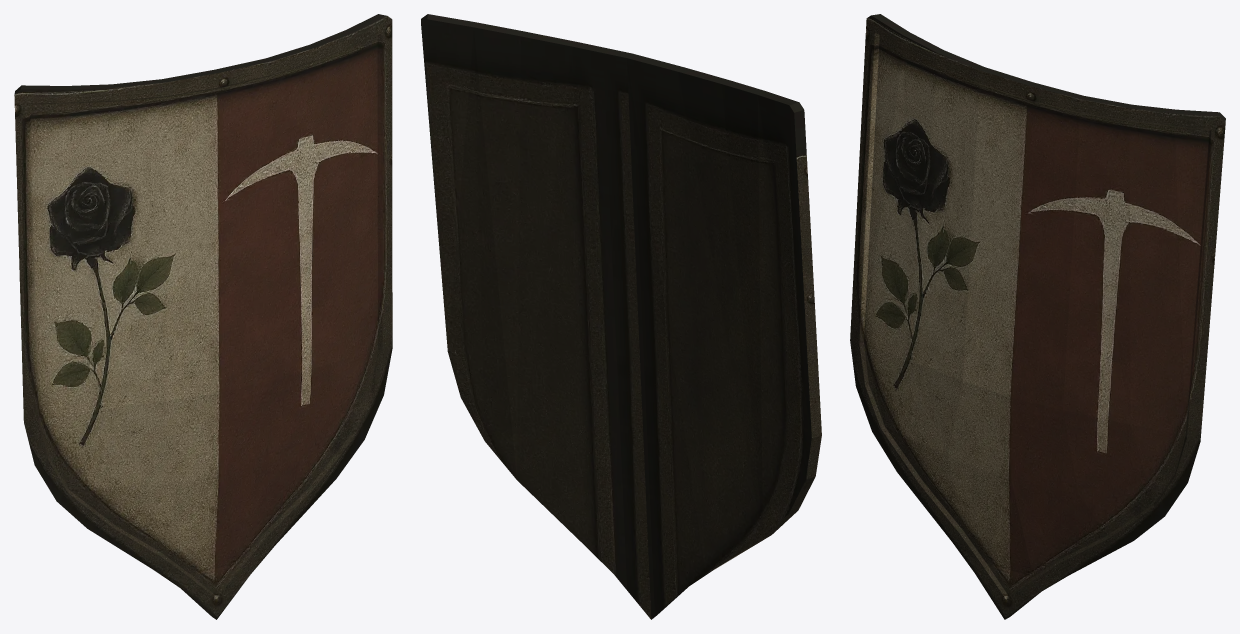
File: DI_ROSAVERO_SHIELD_IRON.glb
3 renders of one model, left to right at view 1: azimuth 30°, elevation 25°; view 2: azimuth 150°, elevation 25°; view 3: azimuth 330°, elevation 25°, orthographic. The views are drawn at different scales.
Visible parts, largest first — view 1: DI_ROSAVERO_SHIELD_IRON; view 2: DI_ROSAVERO_SHIELD_IRON; view 3: DI_ROSAVERO_SHIELD_IRON.
Part boxes in pixels (x1,y1,x2,y2): DI_ROSAVERO_SHIELD_IRON: [14, 14, 392, 619]; DI_ROSAVERO_SHIELD_IRON: [421, 14, 821, 619]; DI_ROSAVERO_SHIELD_IRON: [850, 14, 1225, 619].
Size of the model in its own units: 0.6706 by 0.9412 by 0.1112.
Materials: 1 (1 with a texture image).
